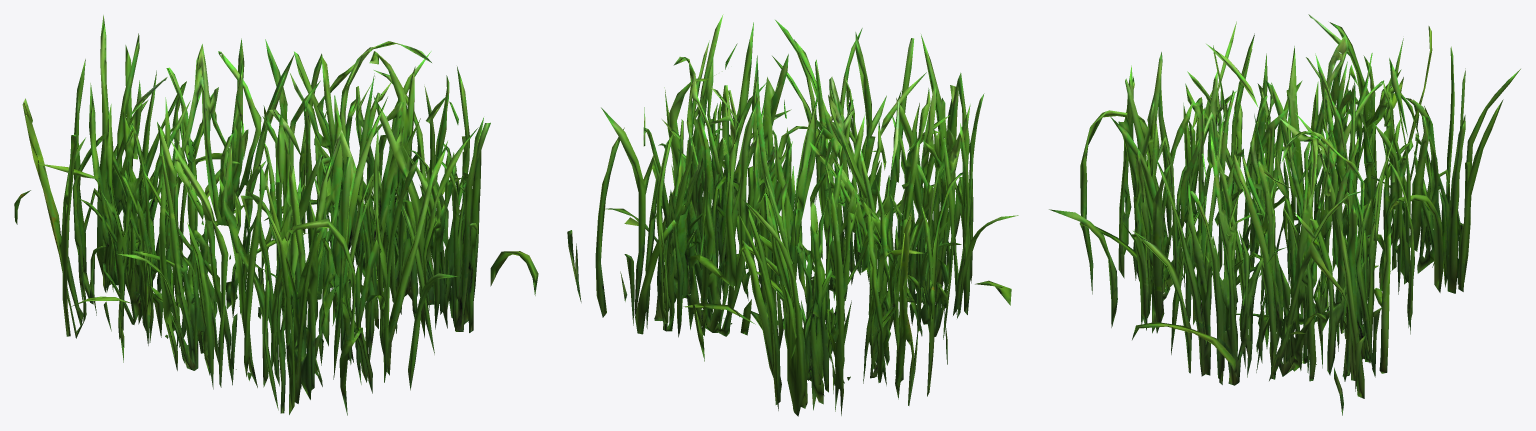
The model's file is seagrass.glb.
3 views of the same model, side by side, from view 1: azimuth 30°, elevation 25°; view 2: azimuth 150°, elevation 25°; view 3: azimuth 270°, elevation 25° (orthographic). The views are drawn at different scales.
Bounding box in the file's own units: 1.93 × 1.22 × 1.96.
Materials: 1 (1 with a texture image).
